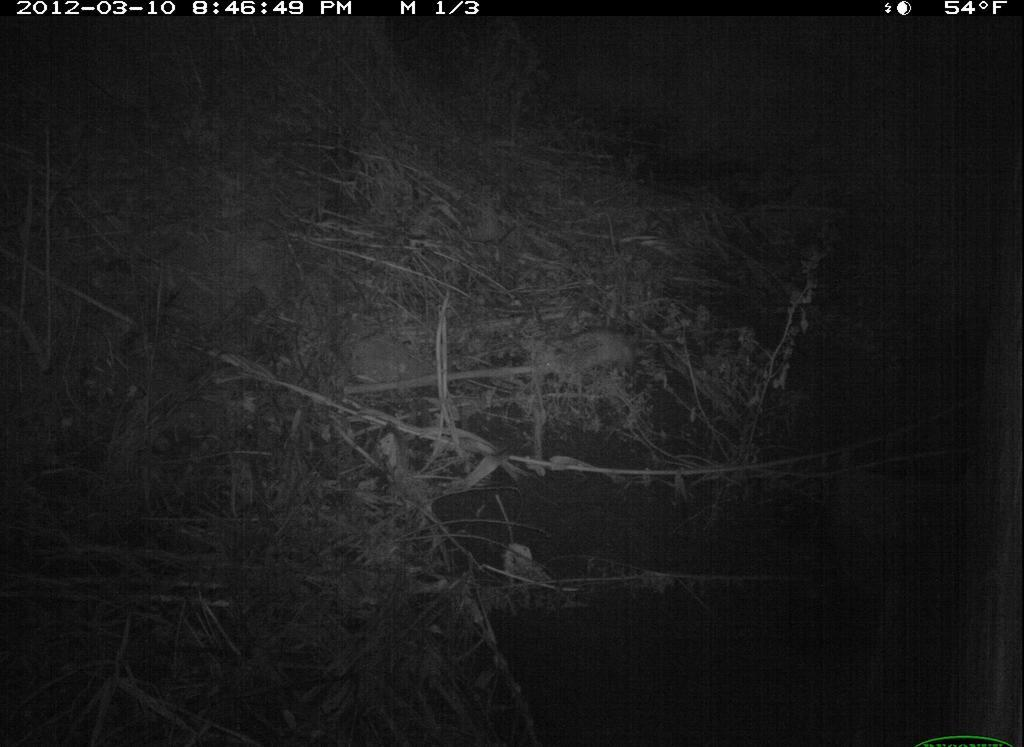opossum: (530, 323, 683, 393)
